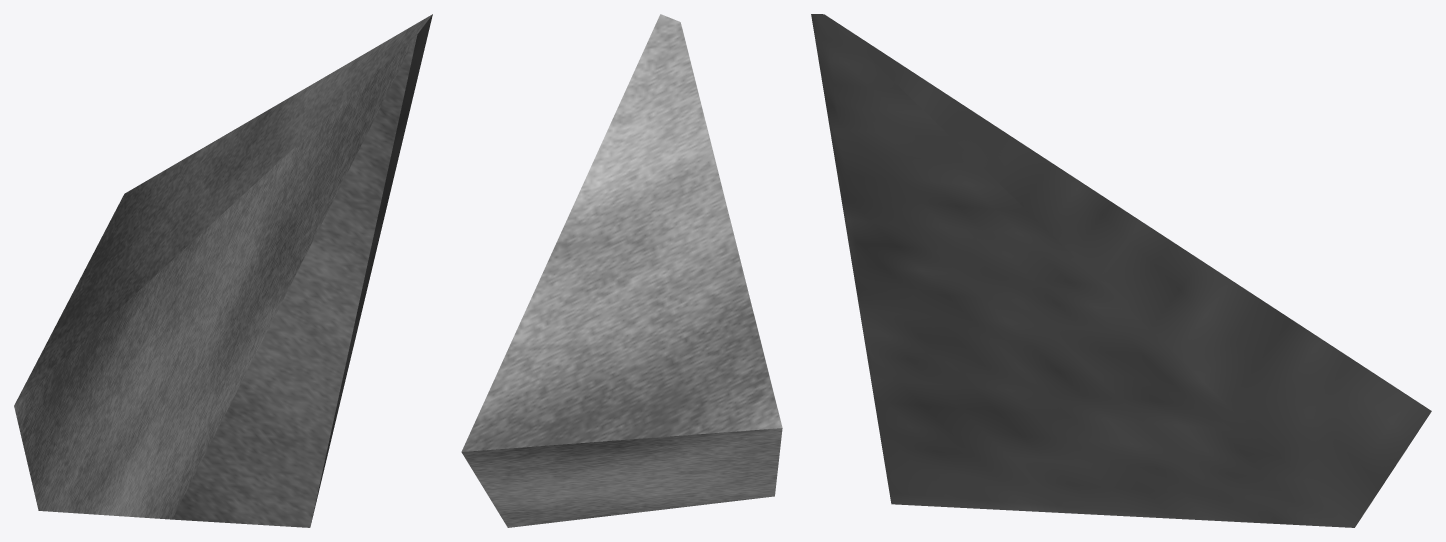
Rendered from leg_3_cell_010.fbx.
3 views of the same model, side by side, from view 1: azimuth 30°, elevation 25°; view 2: azimuth 150°, elevation 25°; view 3: azimuth 270°, elevation 25° (orthographic). The views are drawn at different scales.
Parts seen in each view (by area): view 1: leg_3_cell.010; view 2: leg_3_cell.010; view 3: leg_3_cell.010.
Part boxes in pixels (<box>): leg_3_cell.010: <box>14,14,432,527</box>; leg_3_cell.010: <box>461,14,782,527</box>; leg_3_cell.010: <box>811,14,1431,527</box>.
Size of the model in its own units: 8.63 by 14.45 by 15.18.
